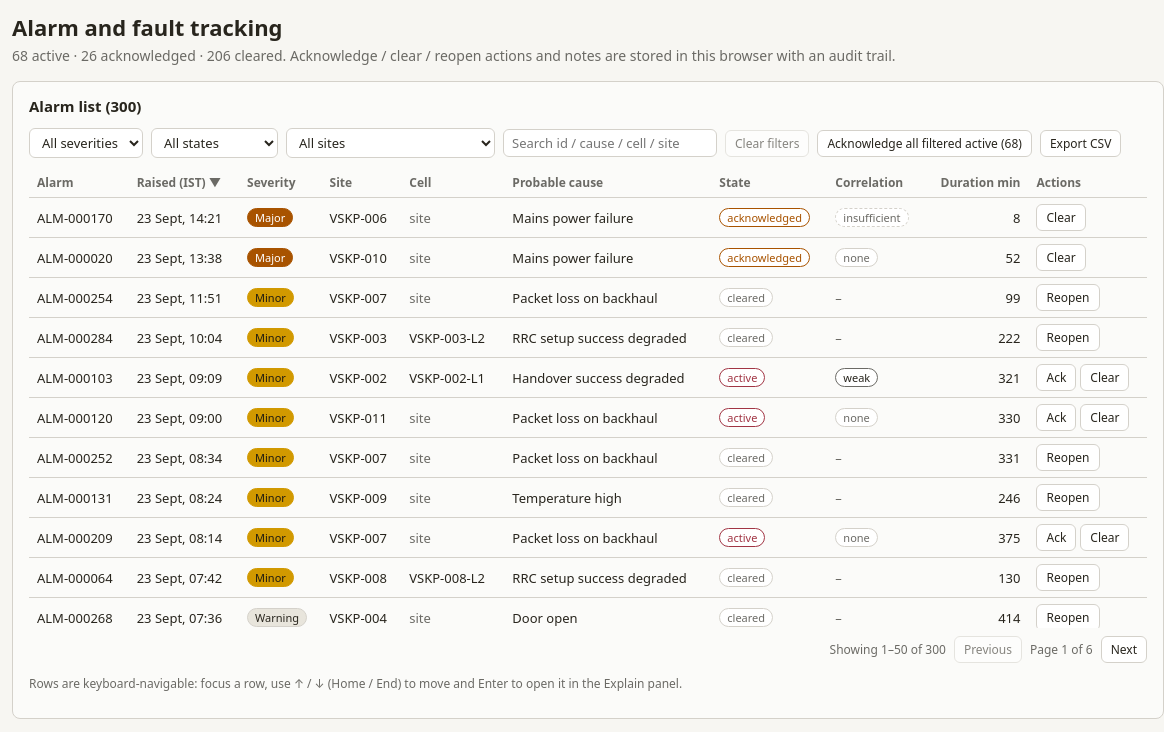
Test: Alarms page — table, filters, pagination › moves to the next page through the URL and clamps out-of-range pages
Click the button "Next". click: (1124, 650)
box: [1101,636,1147,663]
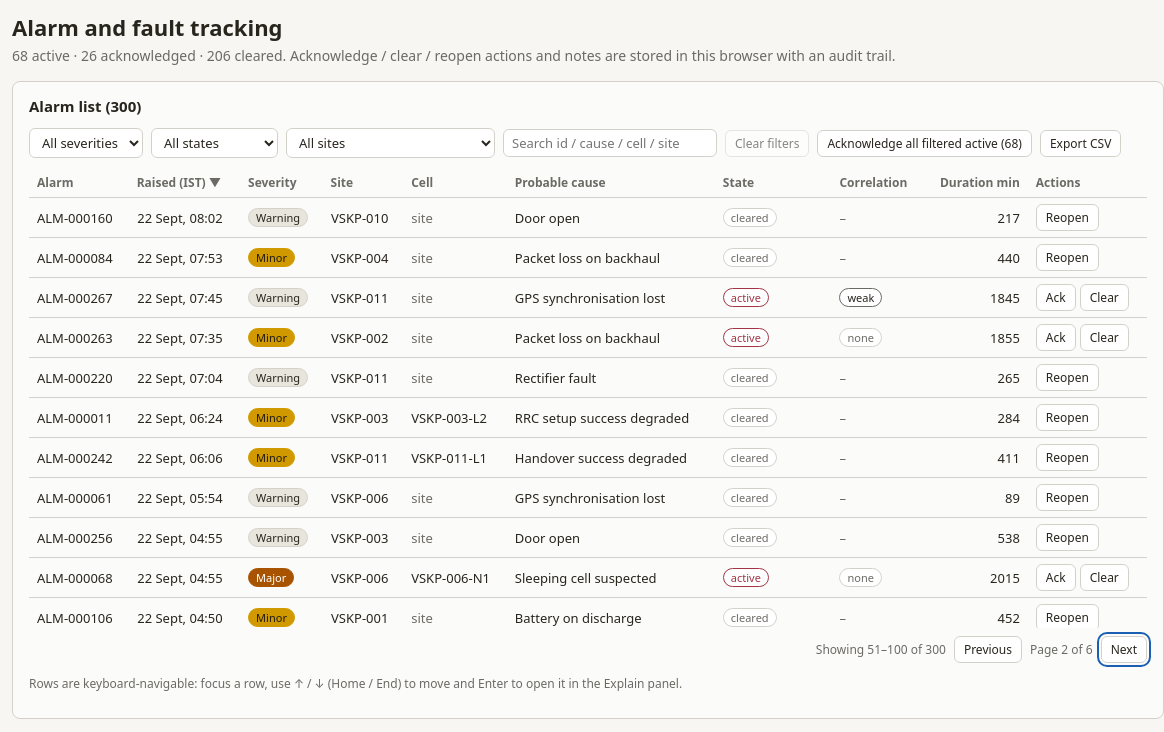
Result: the text "Page 2 of 6" is shown at [1030,641,1093,658]
Result: the button "Previous" is enabled at [954,636,1022,663]
